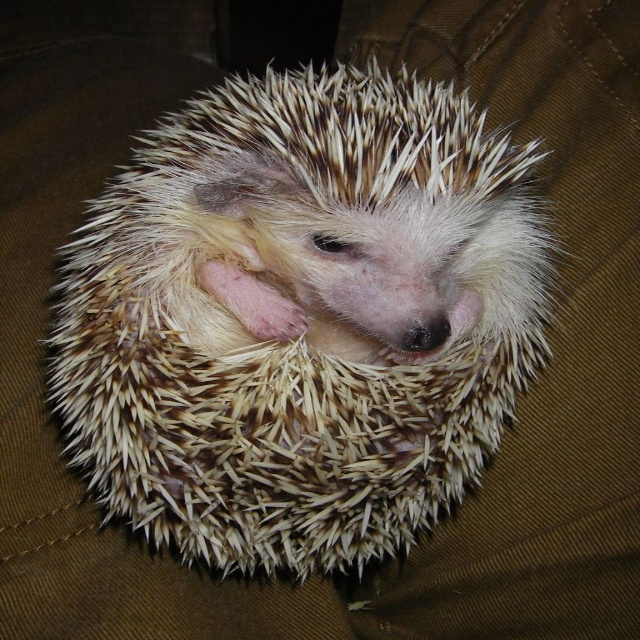Hedgehog: (35, 52, 583, 589)
